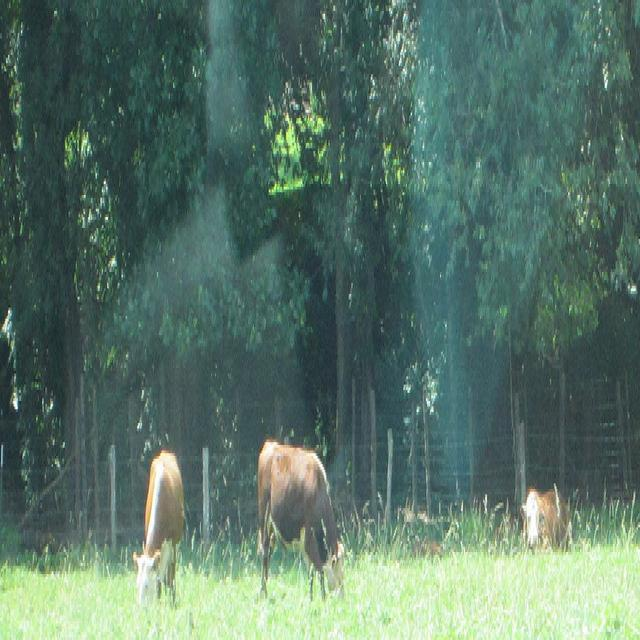cow: (256, 439, 343, 599), (132, 445, 183, 604), (518, 484, 572, 547)
